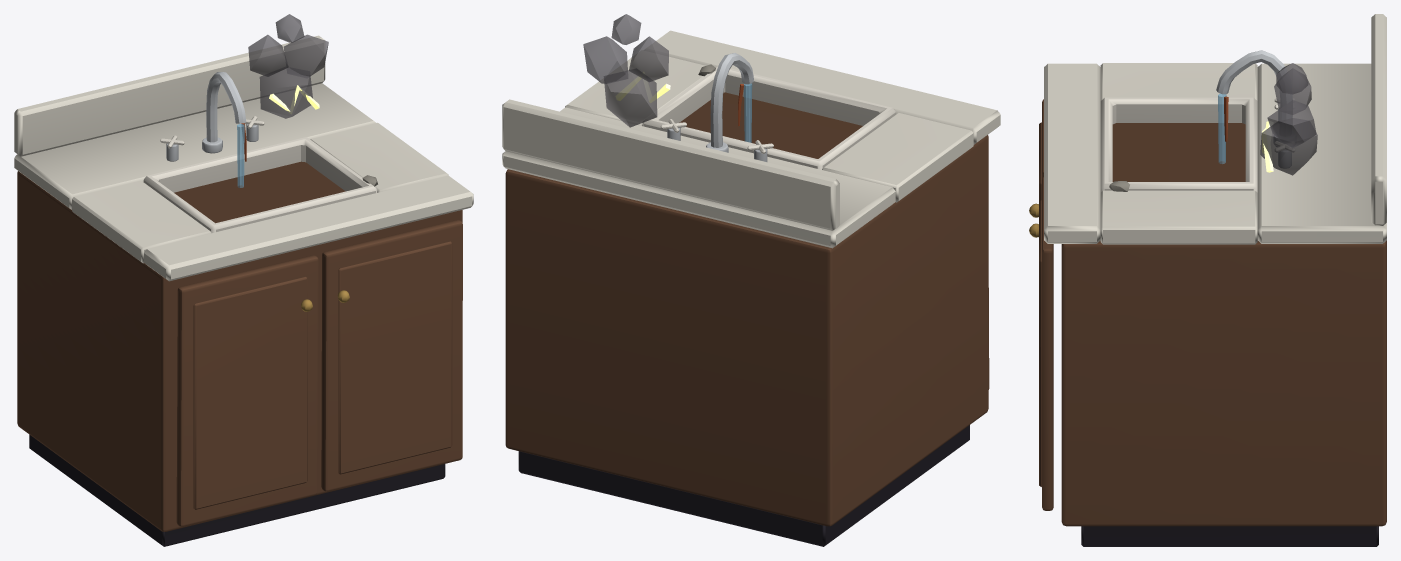
Rendered from sink_rusty.glb.
3 renders of one model, left to right at view 1: azimuth 30°, elevation 25°; view 2: azimuth 150°, elevation 25°; view 3: azimuth 270°, elevation 25°, orthographic. The views are drawn at different scales.
Parts seen in each view (by area): view 1: sink_rusty, broken; view 2: sink_rusty, broken; view 3: sink_rusty, broken, water.
Part boxes in pixels (x1,y1,x2,y2): sink_rusty: (14, 35, 473, 546); broken: (248, 14, 328, 118); sink_rusty: (502, 30, 1000, 546); broken: (583, 14, 670, 127); sink_rusty: (1029, 14, 1386, 546); broken: (1260, 63, 1317, 175); water: (1218, 93, 1226, 163).
Bounding box in the file's own units: 1 × 1.27 × 0.913.
